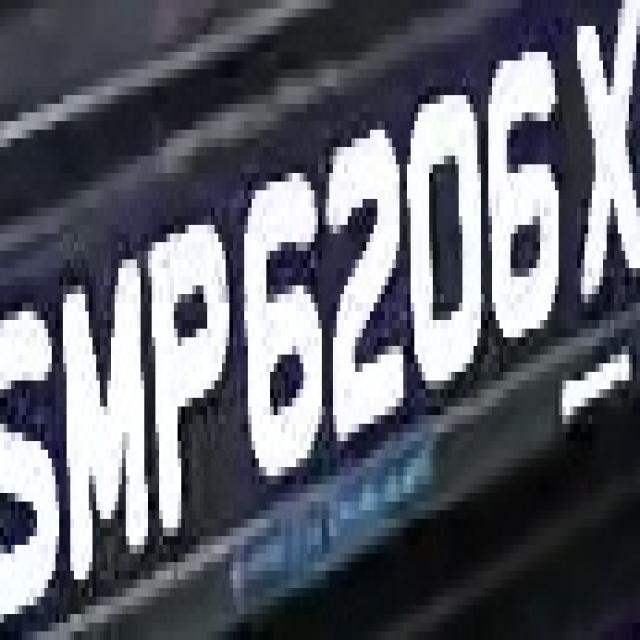0: (400, 78, 492, 406)
2: (322, 130, 411, 467)
6: (236, 164, 336, 519), (477, 34, 577, 380)
M: (52, 268, 159, 623)
P: (148, 199, 237, 571)
X: (3, 0, 4, 5)
